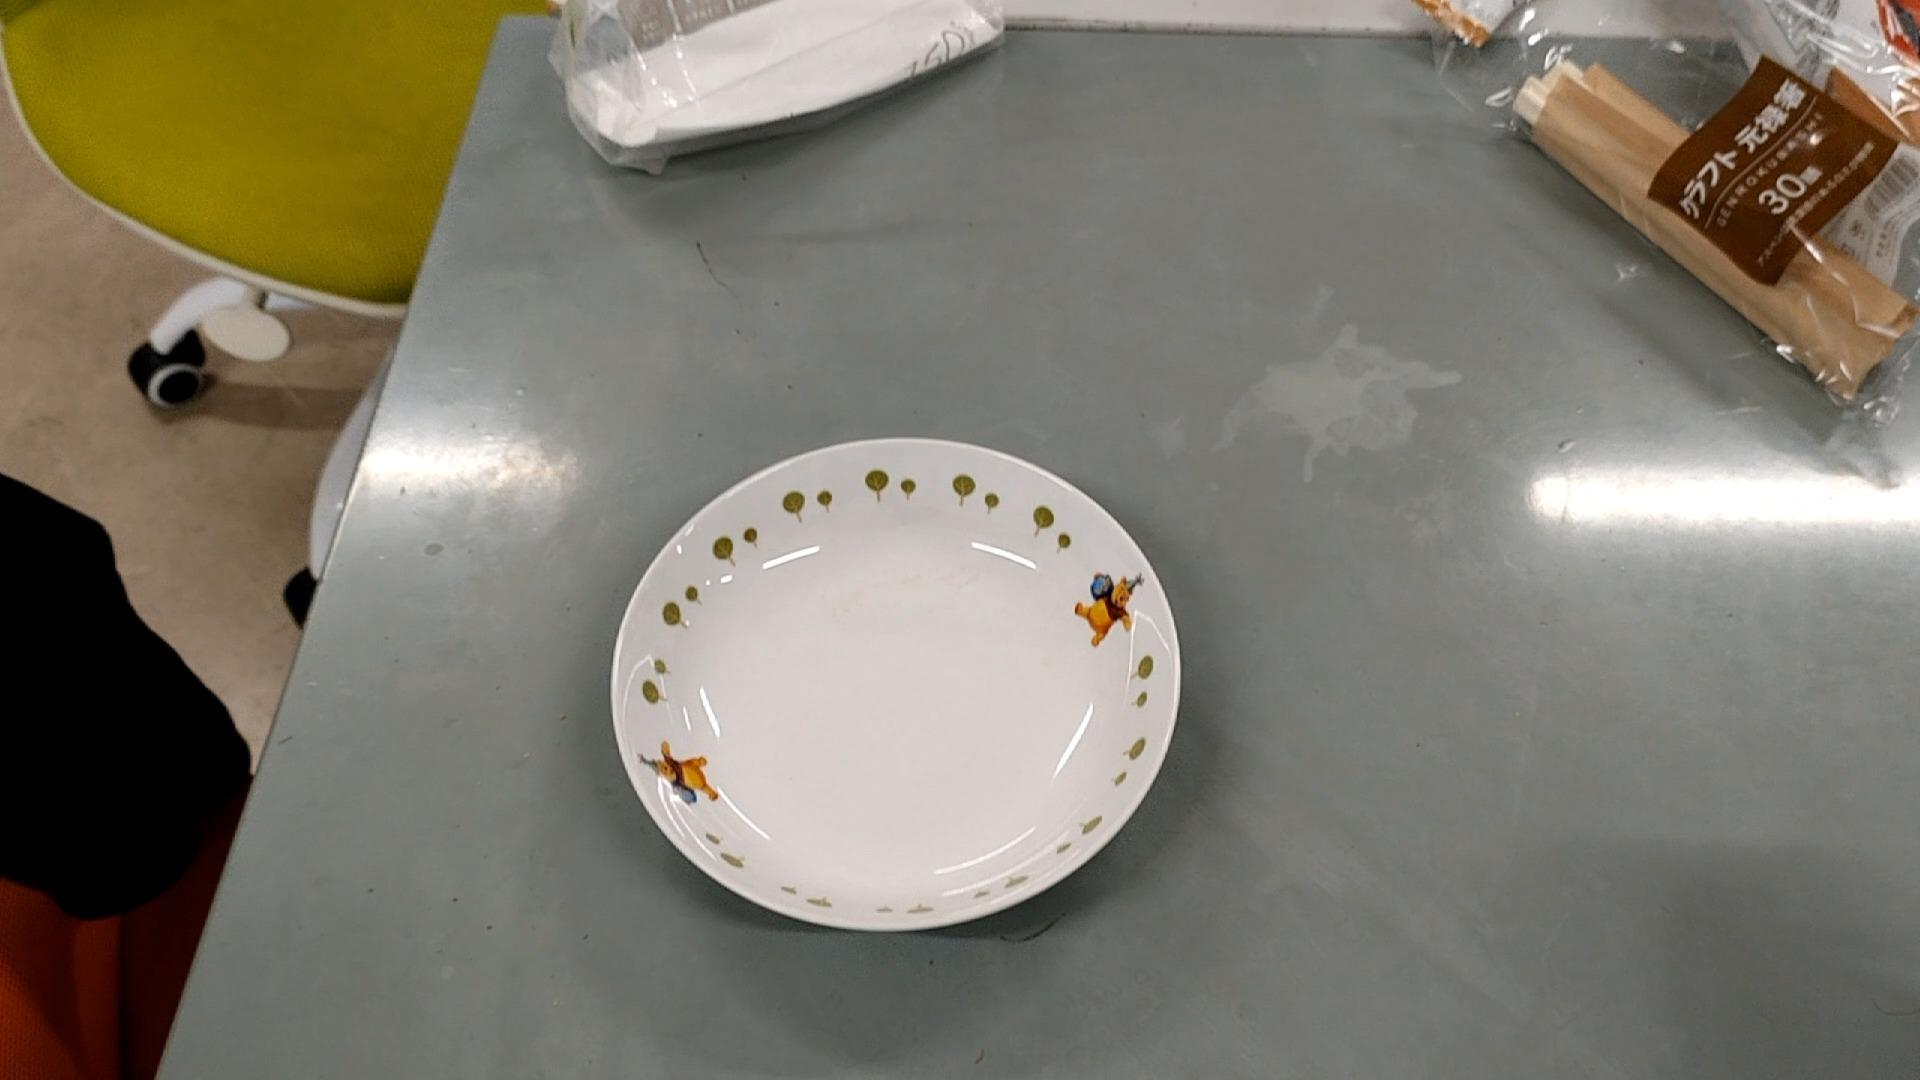plate: (616, 438, 1182, 930)
